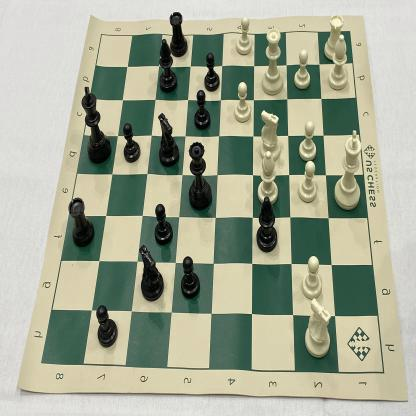black-bishop: (254, 195, 282, 254), (156, 36, 179, 94)
black-king: (78, 82, 112, 166)
black-knight: (138, 241, 166, 305), (156, 108, 180, 170)
black-pawn: (94, 302, 120, 352), (178, 251, 202, 303), (152, 202, 175, 249), (192, 84, 213, 134), (121, 120, 143, 165), (202, 50, 221, 93)
black-queen: (187, 140, 214, 214)
black-rook: (66, 192, 96, 248), (169, 6, 189, 61)
white-bishop: (326, 32, 352, 93), (255, 150, 281, 207)
white-king: (332, 126, 366, 215)
white-knight: (301, 296, 335, 362), (258, 106, 282, 162)
white-pawn: (300, 253, 326, 302), (296, 160, 320, 205), (233, 79, 254, 127), (298, 118, 320, 163), (233, 13, 254, 58), (292, 48, 312, 92)
white-queen: (260, 24, 284, 98)
white-rook: (320, 9, 347, 64)
